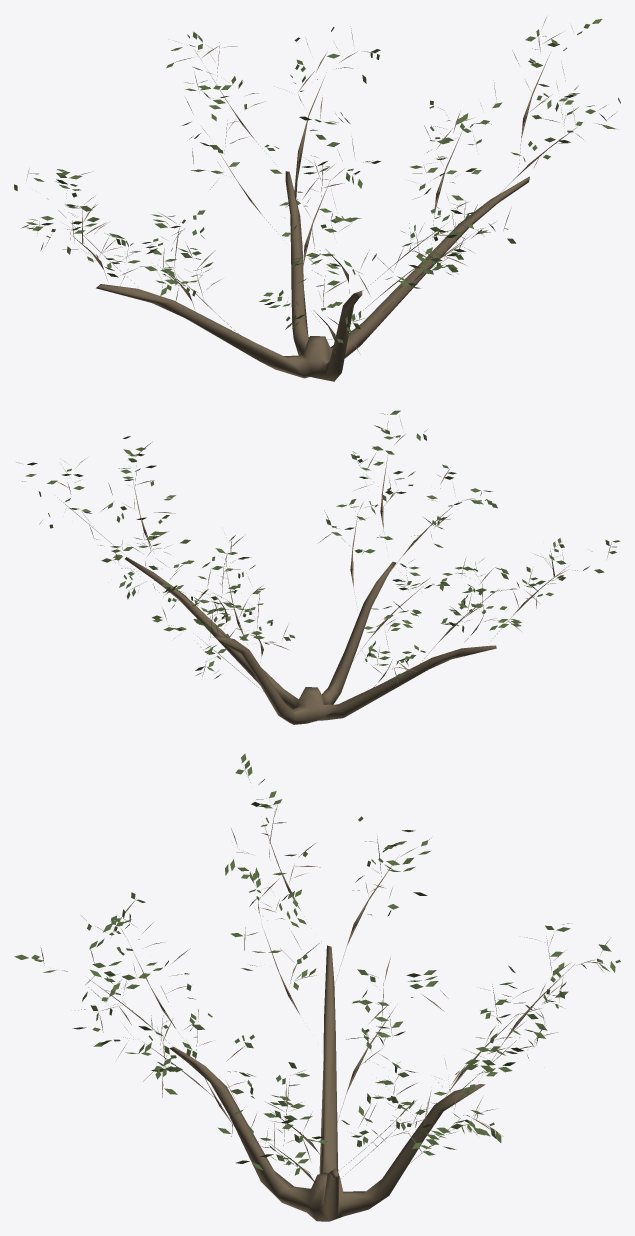
The model's file is Lentisque_2_Niveau2.fbx.
3 renders of one model, top to bottom at view 1: azimuth 30°, elevation 25°; view 2: azimuth 150°, elevation 25°; view 3: azimuth 270°, elevation 25°, orthographic. The views are drawn at different scales.
Visible parts, largest first — view 1: Lentisque_2_Niveau2; view 2: Lentisque_2_Niveau2; view 3: Lentisque_2_Niveau2.
Part boxes in pixels (x1,y1,x2,y2): Lentisque_2_Niveau2: (14, 17, 620, 381); Lentisque_2_Niveau2: (16, 410, 620, 724); Lentisque_2_Niveau2: (14, 753, 620, 1221).
Bounding box in the file's own units: 296 × 122 × 221.
